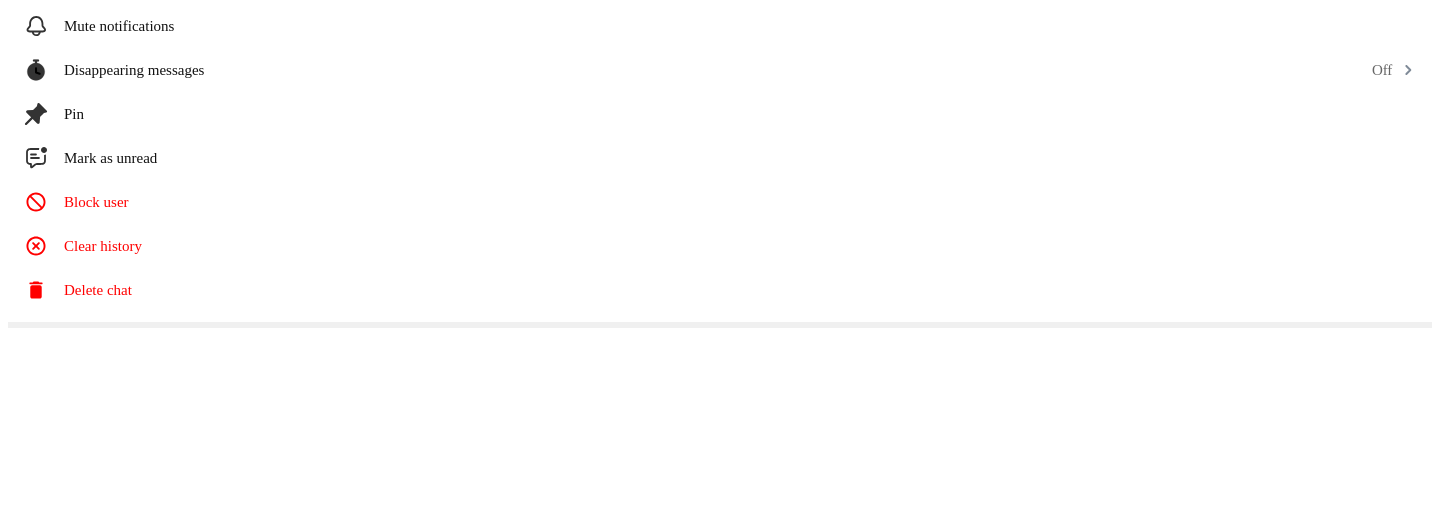
Test: Actions › Action dispatches › clicking Block user opens confirm popup
The image size is (1440, 506).
Click the list item "Block user": (76, 202) top-left (24, 190), bottom-right (129, 214)
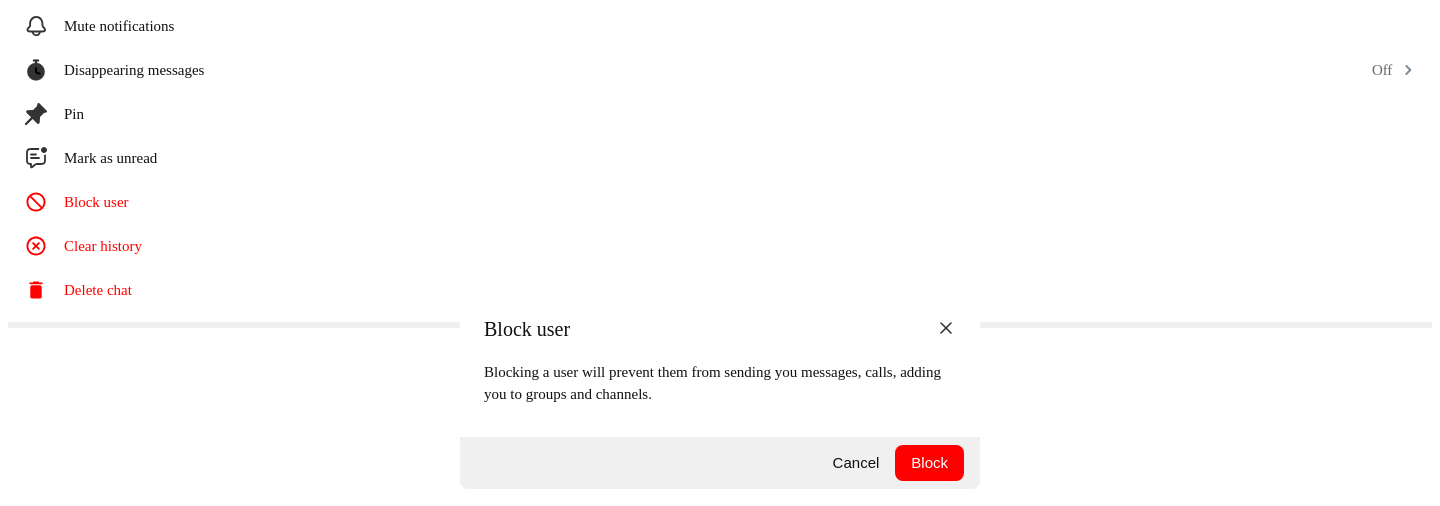
Now the button "Block" is shown, box top-left (895, 444), bottom-right (964, 480)
